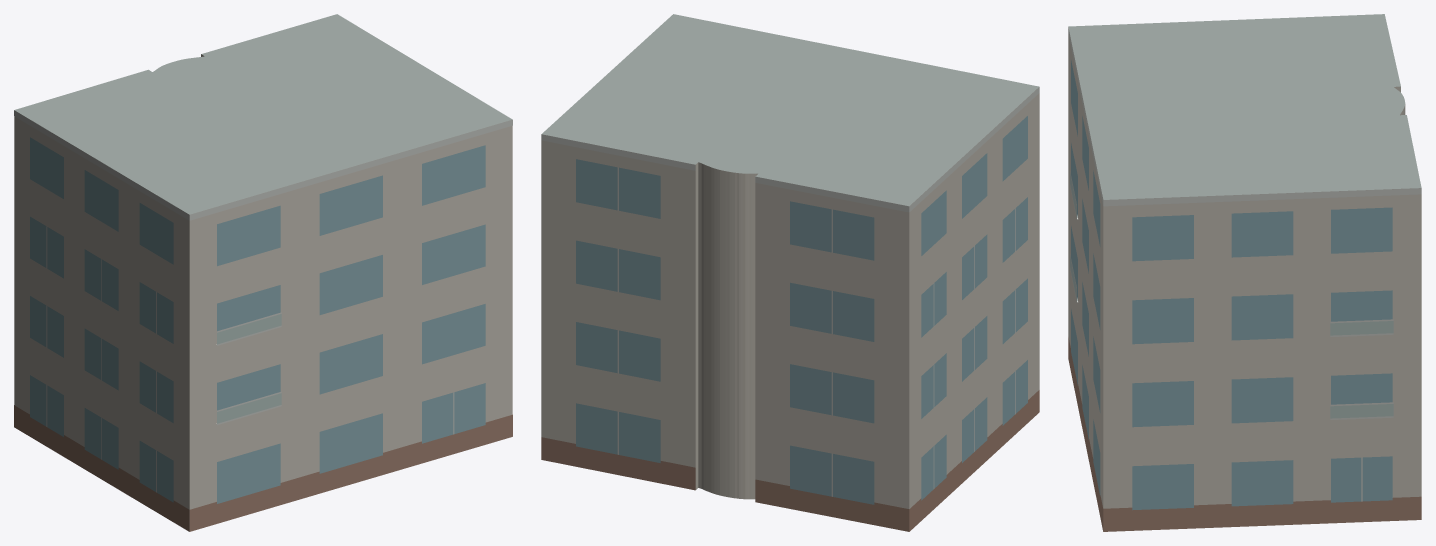
File: survey-upis-32739792.glb
3 renders of one model, left to right at view 1: azimuth 30°, elevation 25°; view 2: azimuth 150°, elevation 25°; view 3: azimuth 270°, elevation 25°, orthographic. The views are drawn at different scales.
Parts seen in each view (by area): view 1: survey-upis-32739792.tmp; view 2: survey-upis-32739792.tmp; view 3: survey-upis-32739792.tmp.
Boxes of the visible parts, <box> form: survey-upis-32739792.tmp: <box>14,14,512,531</box>; survey-upis-32739792.tmp: <box>541,14,1039,531</box>; survey-upis-32739792.tmp: <box>1068,14,1421,531</box>.
Bounding box in the file's own units: 15.4 × 12.8 × 12.36.
